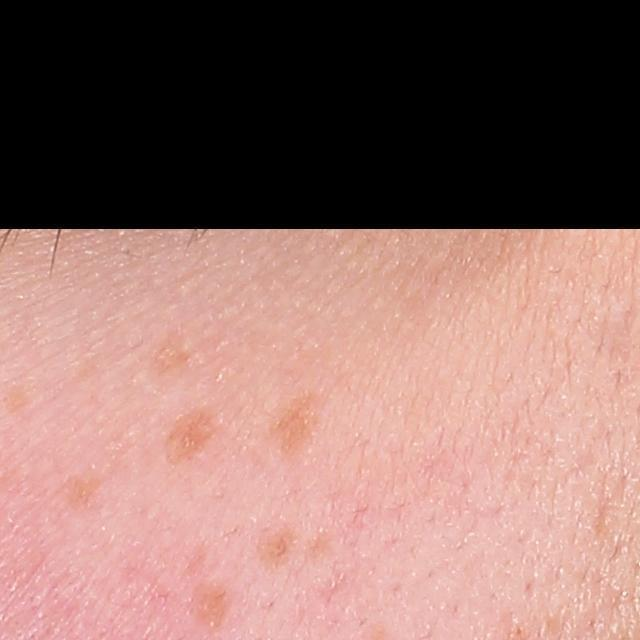melasma: (277, 387, 312, 475), (164, 415, 217, 473), (184, 585, 233, 640), (253, 516, 300, 570), (142, 322, 182, 382), (49, 477, 107, 515), (4, 395, 42, 423)
